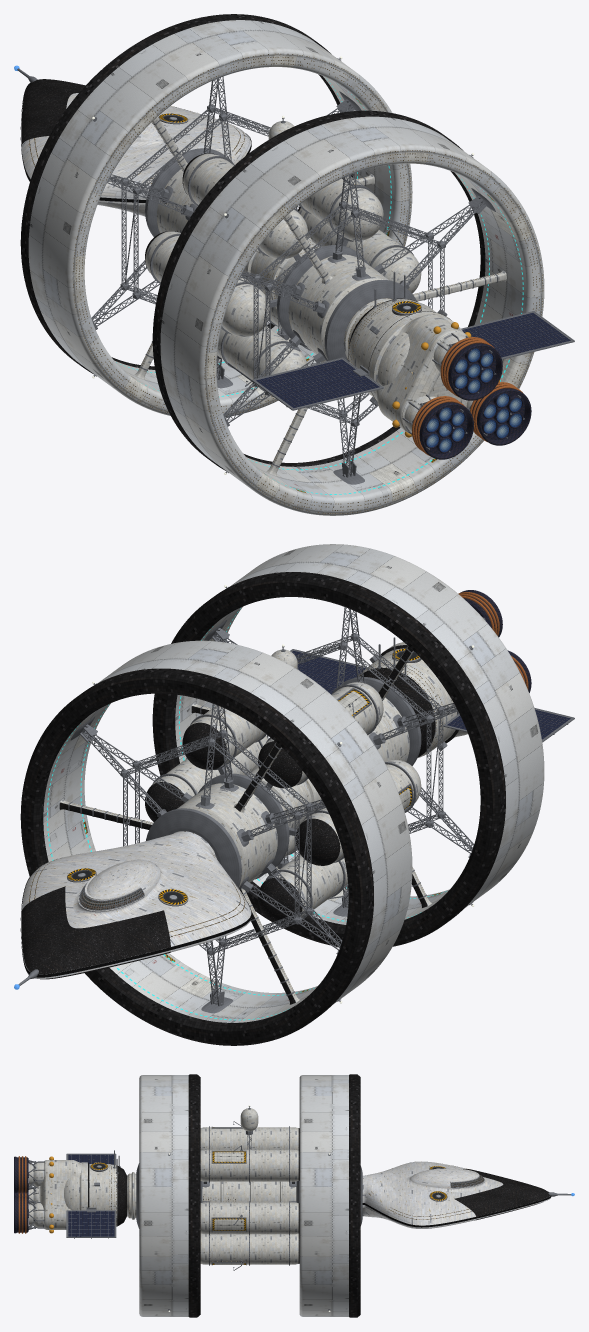
Rendered from nave.gltf.
3 renders of one model, top to bottom at view 1: azimuth 30°, elevation 25°; view 2: azimuth 150°, elevation 25°; view 3: azimuth 270°, elevation 25°, orthographic. The views are drawn at different scales.
Parts seen in each view (by area): view 1: rotor2_anillo_banda, rotor1_anillo_banda, rotor2_anillo_radios, rotor2_anillo_carenado, rotor1_anillo_radios, puente_platillo, rotor1_anillo_carenado, nucleo_carenado_motores, nucleo_modulo_popa, rotor2_anillo_cubo, radiador_babor, bodega_4 (+27 smaller); view 2: rotor1_anillo_banda, rotor1_anillo_carenado, rotor2_anillo_banda, rotor2_anillo_carenado, puente_platillo, rotor1_anillo_radios, proa_escudo, rotor2_anillo_radios, rotor1_anillo_cubo, espina_cojinete_1a, rotor1_anillo_uniones, puente_cupula (+24 smaller); view 3: rotor2_anillo_banda, rotor1_anillo_banda, puente_platillo, rotor2_anillo_carenado, rotor1_anillo_carenado, bodega_6, bodega_2, bodega_1, espina_central, bodega_3, proa_escudo, nucleo_modulo_popa (+15 smaller).
Part boxes in pixels (box(x1,y1,x2,y2)): rotor2_anillo_banda: box(160, 116, 544, 515); rotor1_anillo_banda: box(28, 20, 412, 417); rotor2_anillo_radios: box(223, 173, 484, 476); rotor2_anillo_carenado: box(152, 110, 485, 470); rotor1_anillo_radios: box(91, 76, 352, 380); puente_platillo: box(21, 93, 251, 216); rotor1_anillo_carenado: box(20, 14, 353, 373); nucleo_carenado_motores: box(375, 314, 467, 433); nucleo_modulo_popa: box(348, 299, 463, 401); rotor2_anillo_cubo: box(288, 254, 388, 359); radiador_babor: box(256, 359, 379, 408); bodega_4: box(145, 231, 269, 336); rotor1_anillo_banda: box(43, 640, 412, 1022); rotor1_anillo_carenado: box(20, 668, 373, 1045); rotor2_anillo_banda: box(175, 544, 544, 924); rotor2_anillo_carenado: box(152, 572, 505, 946); puente_platillo: box(21, 831, 251, 978); rotor1_anillo_radios: box(81, 703, 342, 1003); proa_escudo: box(21, 886, 170, 979); rotor2_anillo_radios: box(213, 607, 474, 907); rotor1_anillo_cubo: box(177, 783, 277, 887); espina_cojinete_1a: box(146, 808, 241, 887); rotor1_anillo_uniones: box(70, 716, 338, 1013); puente_cupula: box(79, 859, 160, 913); rotor2_anillo_banda: box(139, 1075, 188, 1316); rotor1_anillo_banda: box(299, 1075, 348, 1316); puente_platillo: box(362, 1161, 550, 1228); rotor2_anillo_carenado: box(188, 1074, 200, 1317); rotor1_anillo_carenado: box(349, 1074, 360, 1317); bodega_6: box(200, 1233, 298, 1264); bodega_2: box(200, 1149, 298, 1181); bodega_1: box(200, 1202, 298, 1234); espina_central: box(127, 1172, 296, 1219); bodega_3: box(200, 1127, 298, 1150); proa_escudo: box(454, 1169, 550, 1220); nucleo_modulo_popa: box(64, 1162, 117, 1225).
Bounding box in the file's own units: 690 × 690 × 1591.
Materials: 22 (22 with a texture image).
